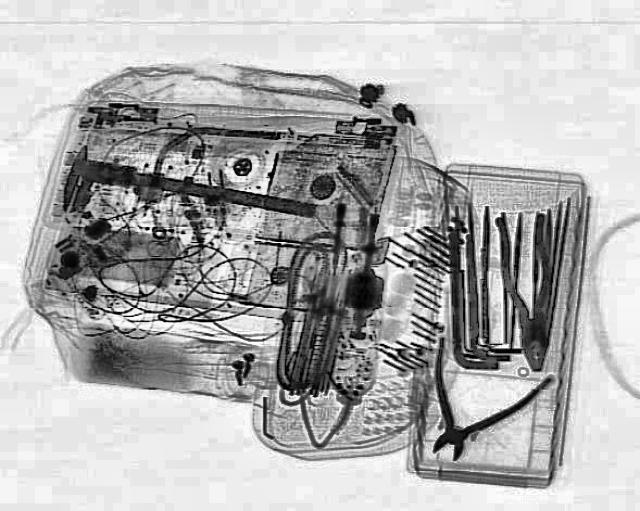Pliers: (385, 336, 557, 472), (492, 212, 564, 372)
